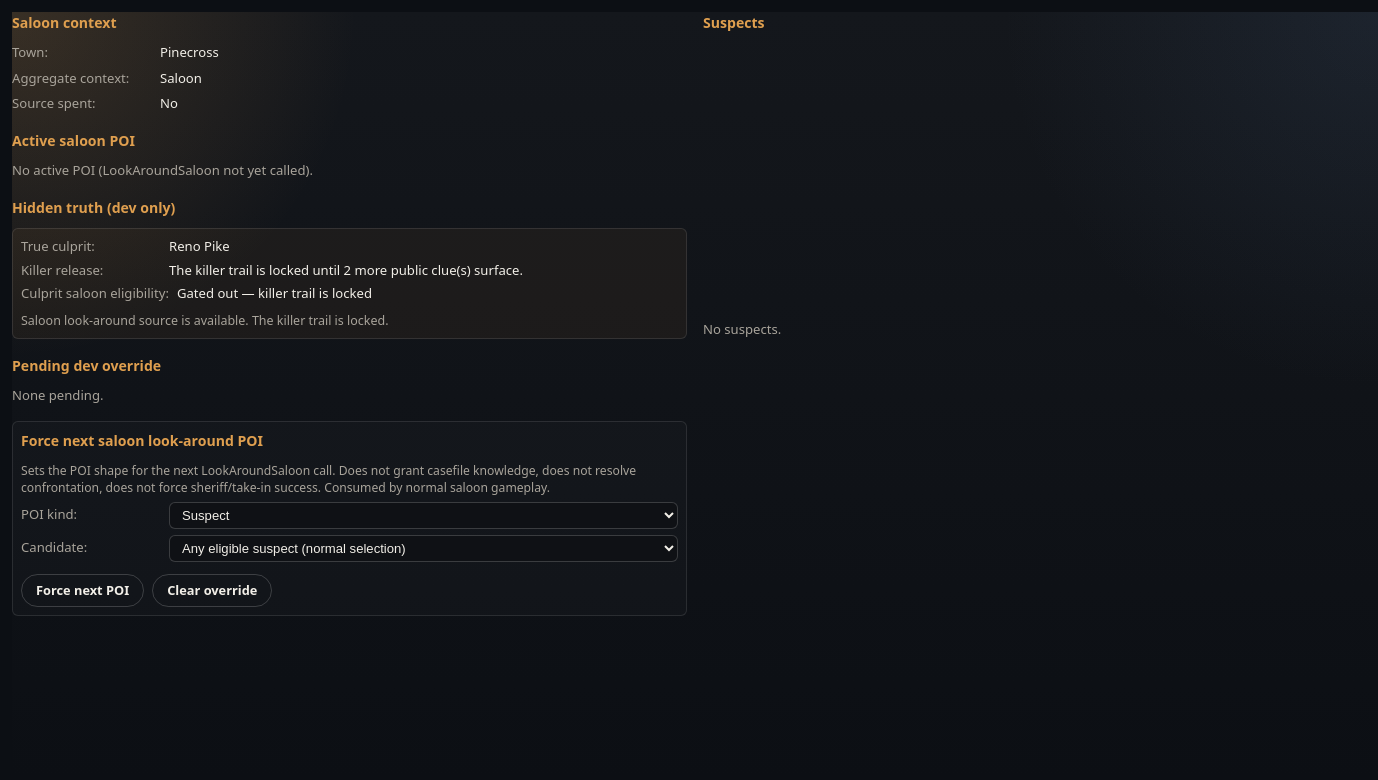
SaloonDevPanel › shows generic citizen note when hasNamedArchetypes is false
The image size is (1378, 780).
Expected: the heading "Force next saloon look-around POI" is shown, [21,431,263,450]
Select "Citizen" in the dropdown with test id "force-kind-select" at (424, 515), box [169,502,678,528]
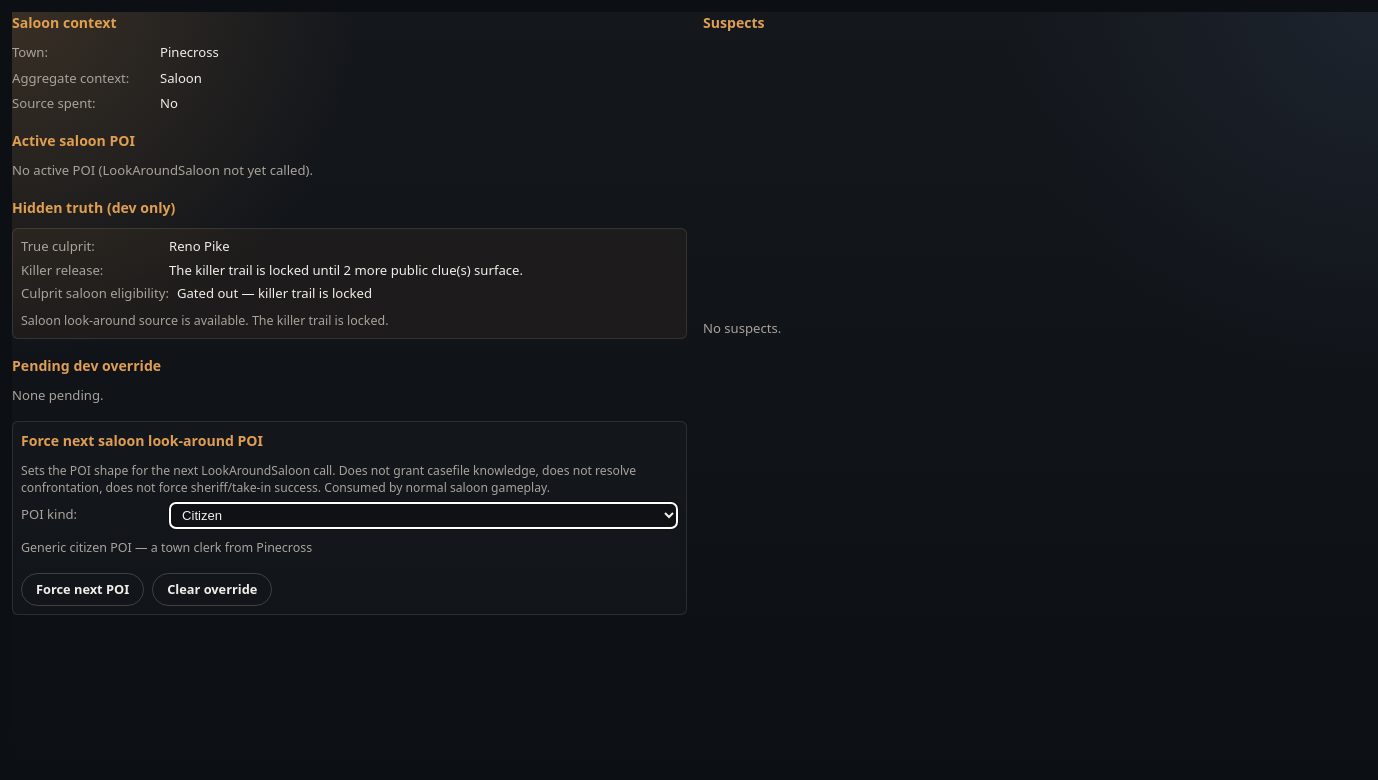
Expected: the text "Generic citizen POI — a town clerk from Pinecross" is shown, [21,538,312,556]
